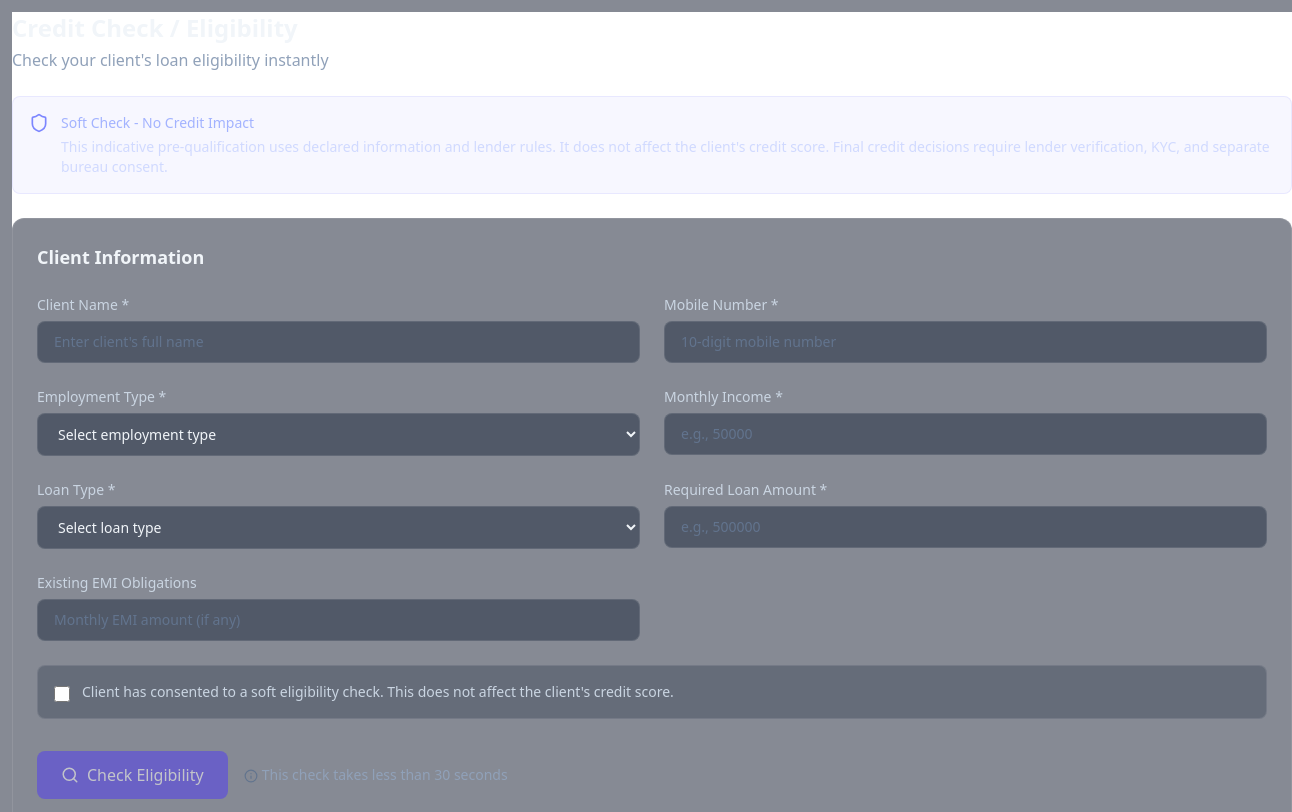
Test case: CreditCheckPage › requires client details and consent before running a soft check
This screenshot has width=1292, height=812.
Expected: the button "Check Eligibility" is disabled, [37,751,228,799]
In the field with placeholder "Enter client's full name": {"x": 338, "y": 342} [37,321,640,363], type "Ravi Sharma"
In the field with placeholder "10-digit mobile number": {"x": 966, "y": 342} [664,321,1267,363], type "9876543210"
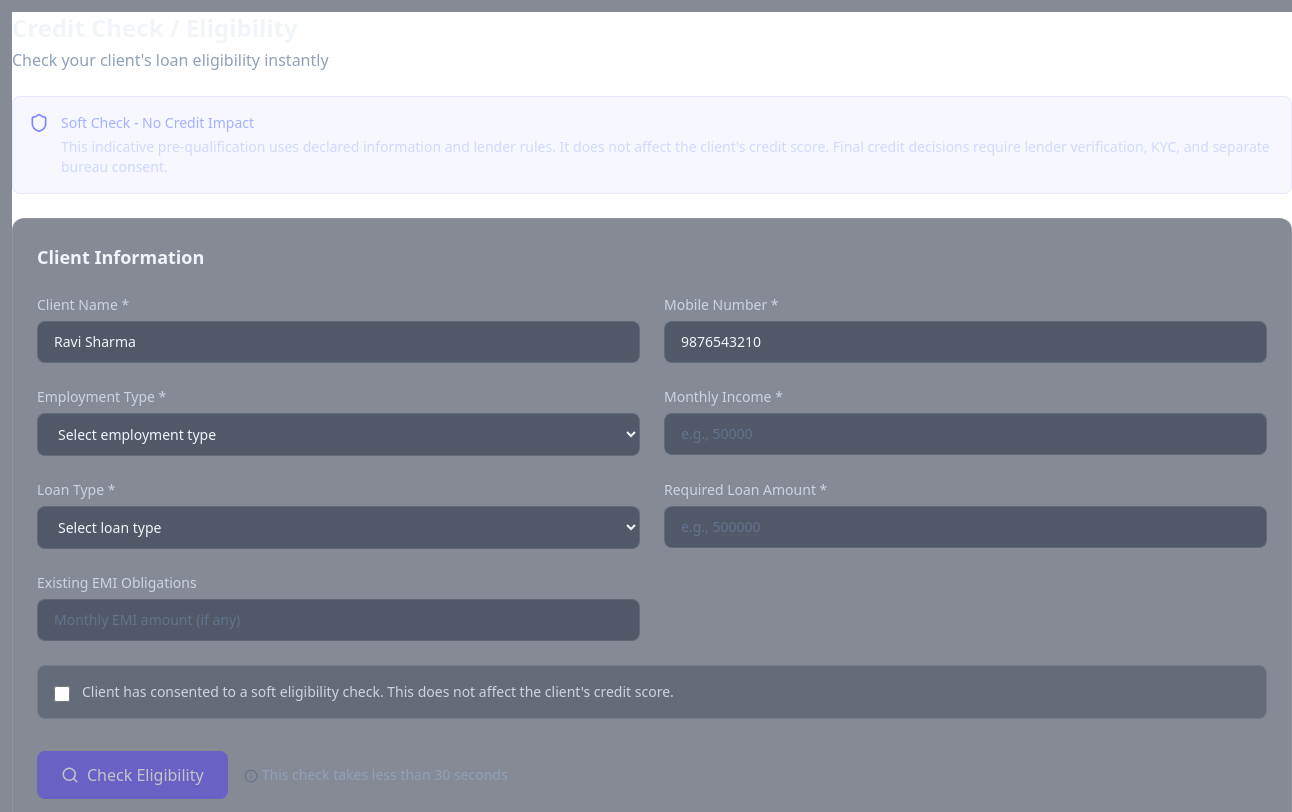
Select "Salaried" in the dropdown "Select employment type": {"x": 338, "y": 434} [37,413,640,456]
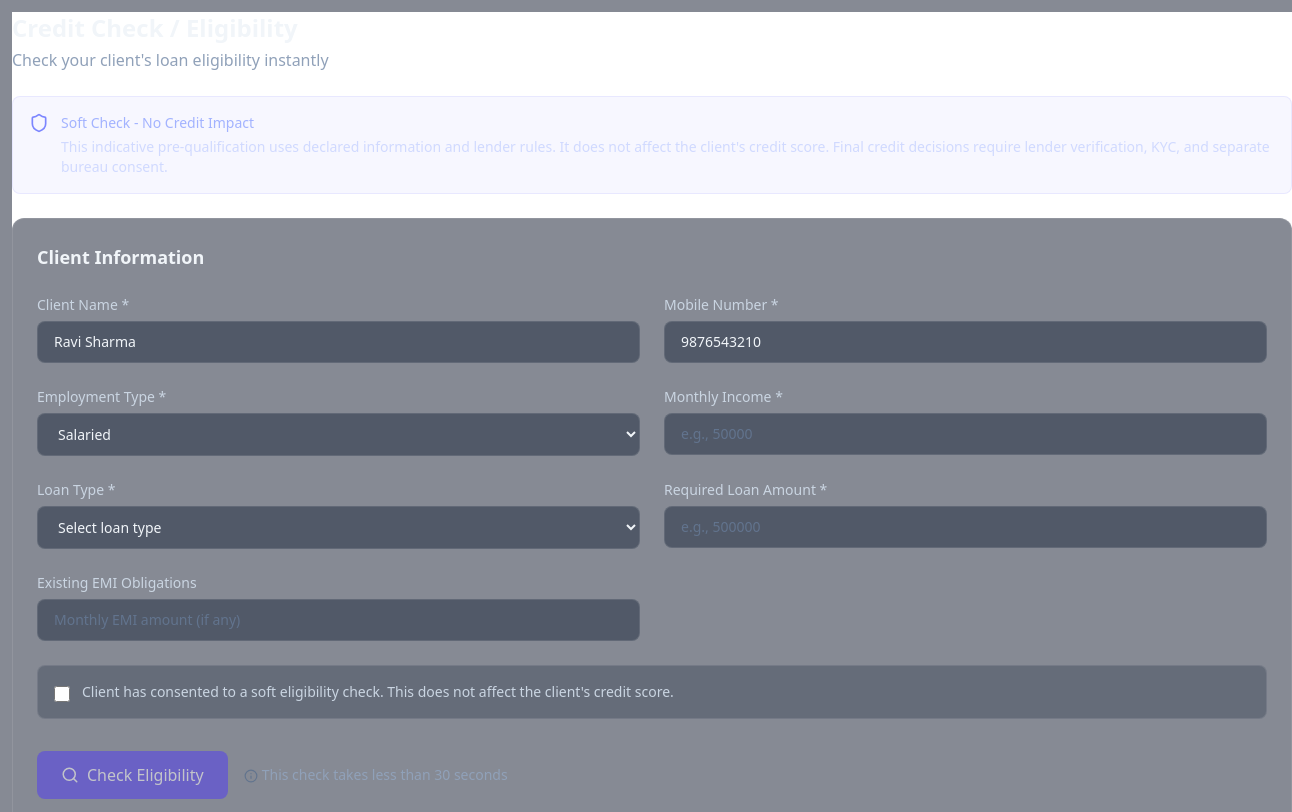
In the number field with placeholder "e.g., 50000": {"x": 966, "y": 434} [664,413,1267,455], type "75000"
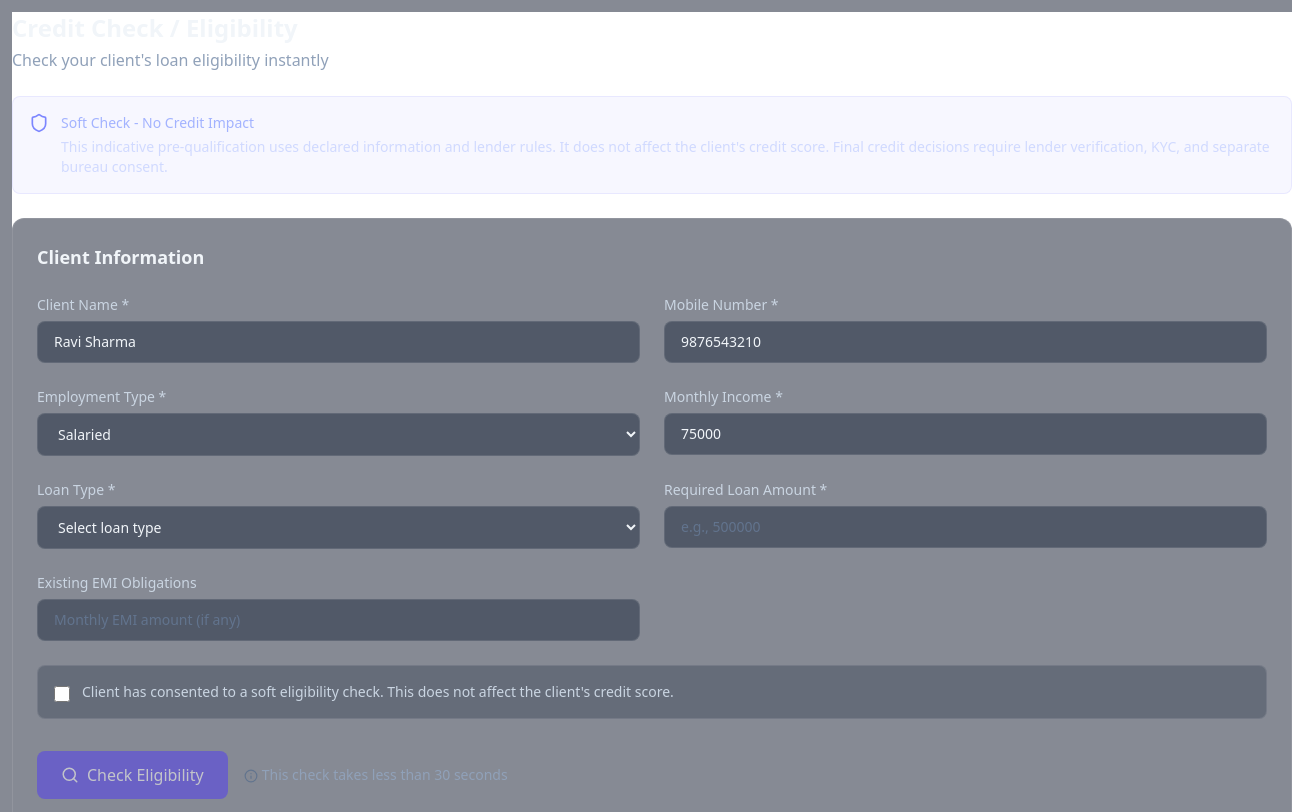
Select "Personal Loan" in the dropdown "Select loan type": {"x": 338, "y": 528} [37,506,640,549]
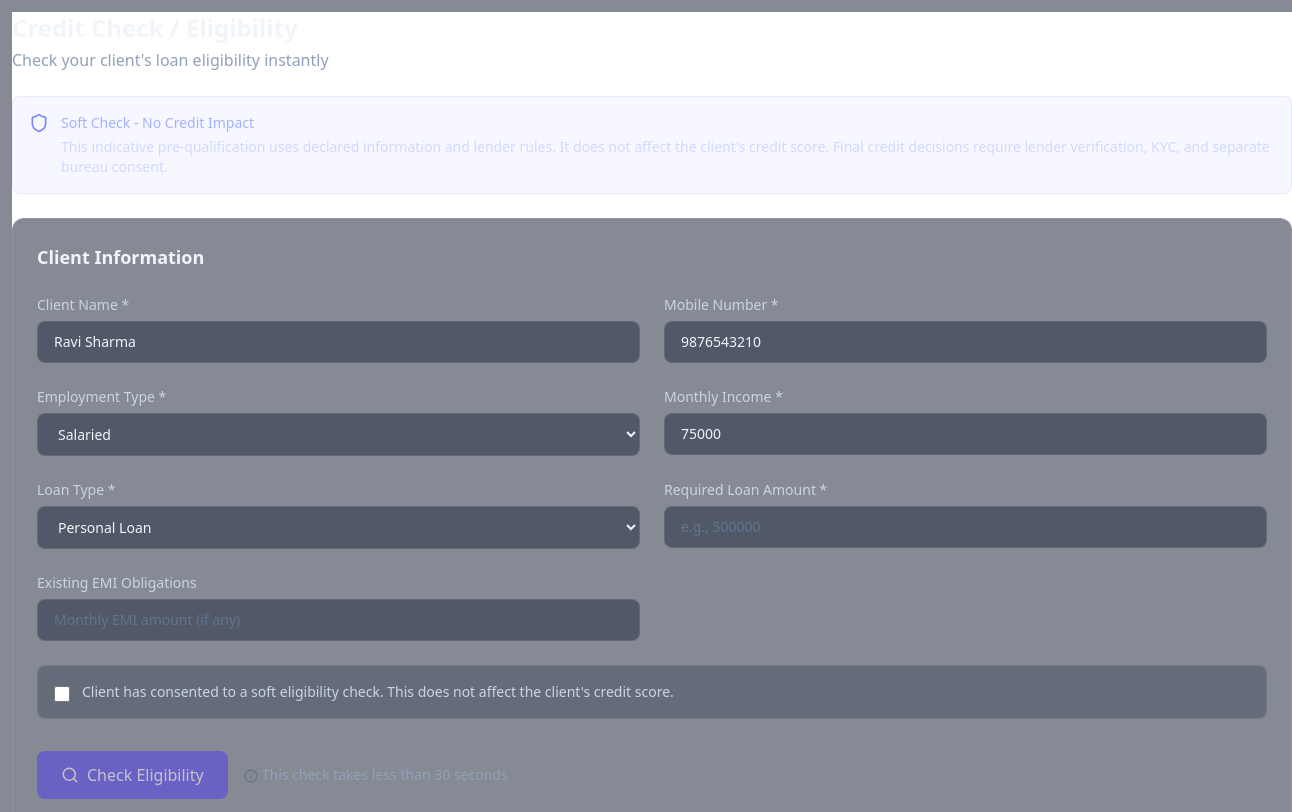
In the number field with placeholder "e.g., 500000": {"x": 966, "y": 527} [664,506,1267,548], type "500000"
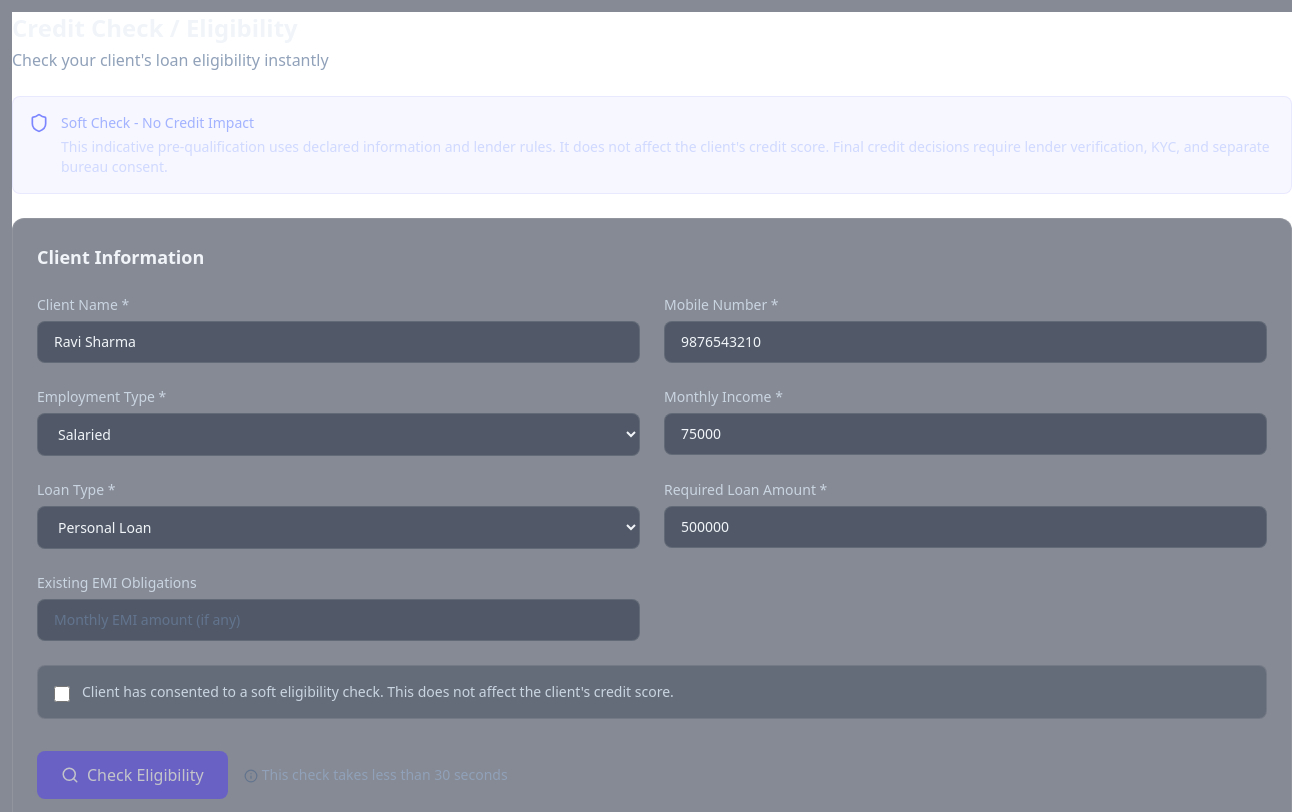
Expected: the button "Check Eligibility" is disabled, [37,751,228,799]
Click the checkbox labelled "Client has consented": {"x": 62, "y": 694} [54,686,70,702]
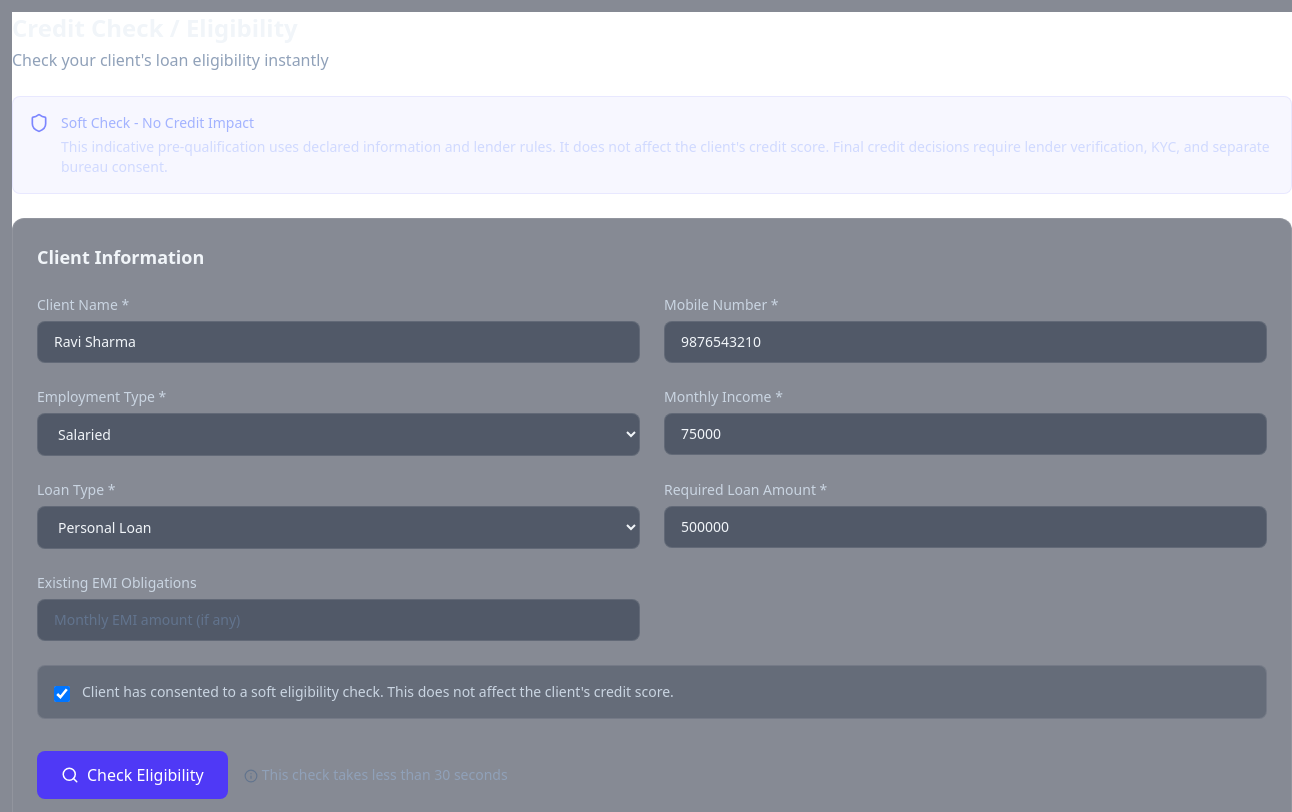
Expected: the button "Check Eligibility" is enabled, [37,751,228,799]
